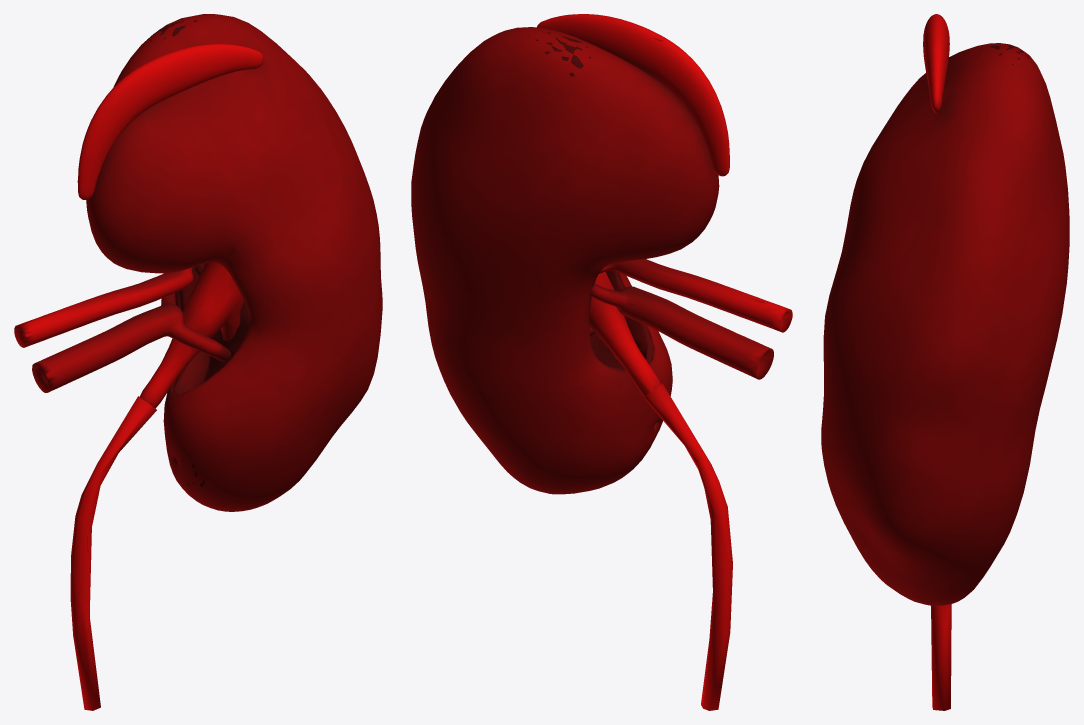
Rendered from ledvica-telefon.glb.
3 renders of one model, left to right at view 1: azimuth 30°, elevation 25°; view 2: azimuth 150°, elevation 25°; view 3: azimuth 270°, elevation 25°, orthographic. The views are drawn at different scales.
Visible parts, largest first — view 1: kidney_capsule_L (HRA), Suprarenal gland.l, Renal vein (lastno), Ureter.l, Evklid renal pelvis and calyces (lastno), Renal artery (lastno), outer_cortex_of_kidney_L (HRA), renal_column_L (HRA); view 2: kidney_capsule_L (HRA), Suprarenal gland.l, Ureter.l, Renal vein (lastno), Renal artery (lastno), Evklid renal pelvis and calyces (lastno), outer_cortex_of_kidney_L (HRA); view 3: kidney_capsule_L (HRA), Ureter.l, Suprarenal gland.l.
Part boxes in pixels (left/top/right/bottom): kidney_capsule_L (HRA): left=86, top=14, right=382, bottom=511; Suprarenal gland.l: left=77, top=44, right=263, bottom=199; Renal vein (lastno): left=32, top=293, right=230, bottom=392; Ureter.l: left=70, top=396, right=156, bottom=710; Evklid renal pelvis and calyces (lastno): left=139, top=262, right=243, bottom=408; Renal artery (lastno): left=14, top=266, right=194, bottom=347; outer_cortex_of_kidney_L (HRA): left=172, top=266, right=209, bottom=395; renal_column_L (HRA): left=200, top=263, right=249, bottom=382; kidney_capsule_L (HRA): left=411, top=27, right=719, bottom=494; Suprarenal gland.l: left=537, top=14, right=729, bottom=176; Ureter.l: left=643, top=383, right=732, bottom=710; Renal vein (lastno): left=589, top=283, right=773, bottom=379; Renal artery (lastno): left=599, top=259, right=792, bottom=332; Evklid renal pelvis and calyces (lastno): left=589, top=271, right=661, bottom=396; outer_cortex_of_kidney_L (HRA): left=601, top=270, right=653, bottom=371; kidney_capsule_L (HRA): left=821, top=43, right=1069, bottom=605; Ureter.l: left=931, top=604, right=951, bottom=710; Suprarenal gland.l: left=923, top=14, right=949, bottom=112.
Bounding box in the file's own units: 0.0745 × 0.1287 × 0.0398.
1 material, 1 textured.
